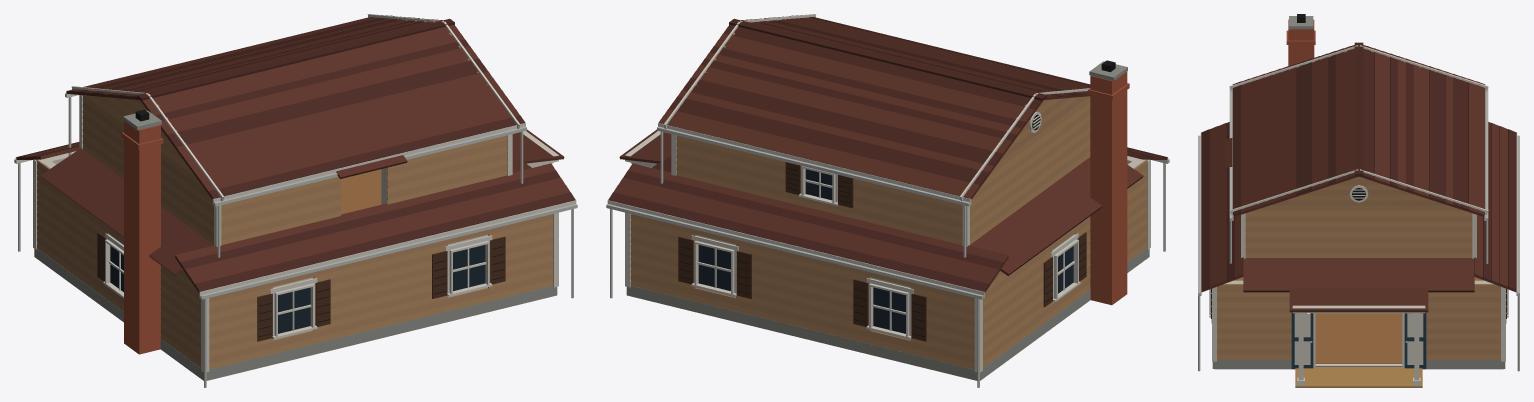
File: house-terracotta-attic.glb
3 renders of one model, left to right at view 1: azimuth 30°, elevation 25°; view 2: azimuth 150°, elevation 25°; view 3: azimuth 270°, elevation 25°, orthographic. The views are drawn at different scales.
Visible parts, largest first — view 1: house-terracotta-attic; view 2: house-terracotta-attic; view 3: house-terracotta-attic.
Part boxes in pixels (bbox=[...]): house-terracotta-attic: bbox=[14, 14, 577, 387]; house-terracotta-attic: bbox=[606, 14, 1169, 387]; house-terracotta-attic: bbox=[1198, 14, 1519, 387].
Size of the model in its own units: 14.67 by 7.67 by 11.14.
